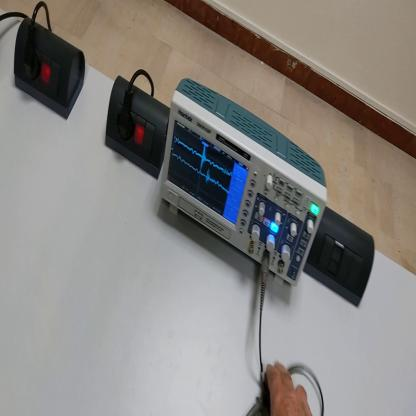hand: (266, 360, 313, 414)
oscilloscope: (161, 77, 328, 288)
oscilloscope probe tip: (246, 356, 303, 415)
socket: (11, 16, 87, 124), (104, 76, 171, 182)
